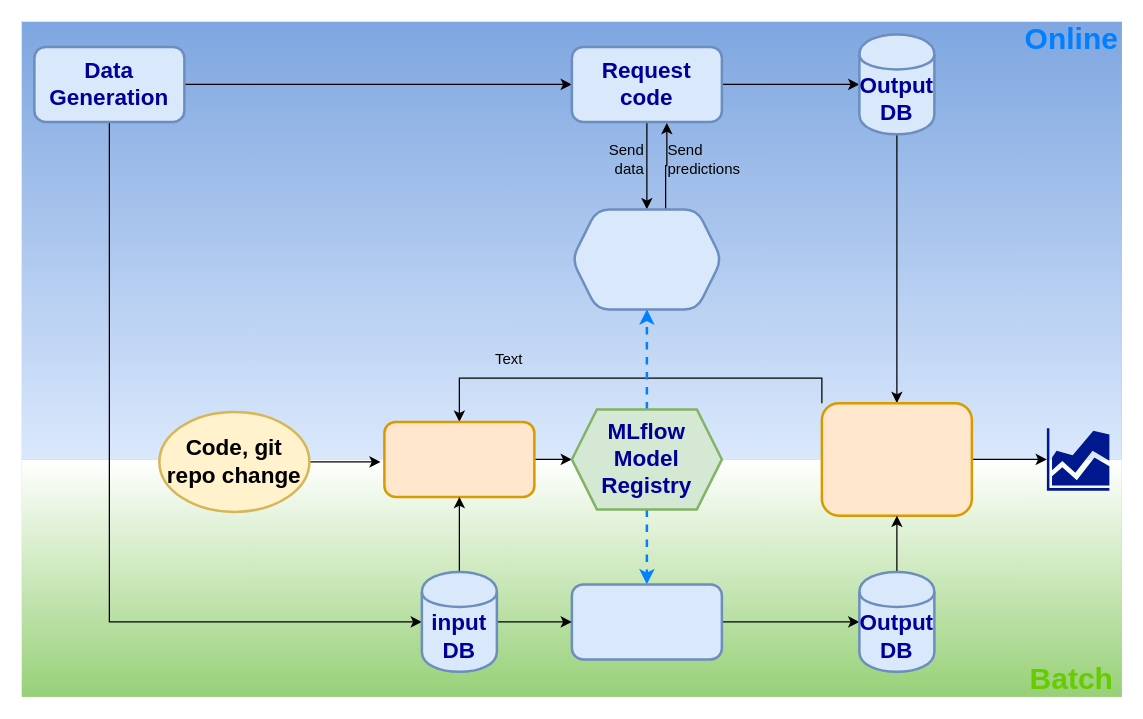
Some shapes in this 1143 by 719 pixel diagram are drawn without their labels. The centre of each missing label's shape, as x and y in pixels:
"Monitoring" goes at point (896, 458).
"Prediction API (pkl file)" goes at point (646, 259).
"Retraining pipeline" goes at point (458, 459).
"serving" goes at point (646, 621).
